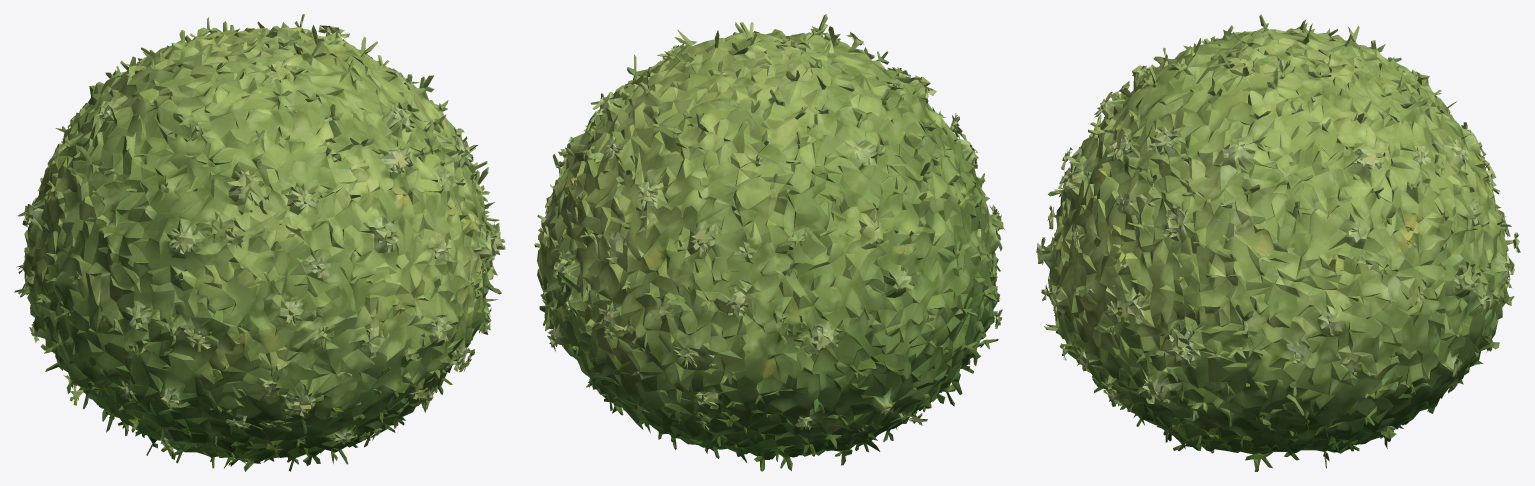
The model's file is bush-daisy.glb.
3 views of the same model, side by side, from view 1: azimuth 30°, elevation 25°; view 2: azimuth 150°, elevation 25°; view 3: azimuth 270°, elevation 25° (orthographic).
Size of the model in its own units: 1.89 by 1.6 by 1.86.
1 material, 1 textured.
